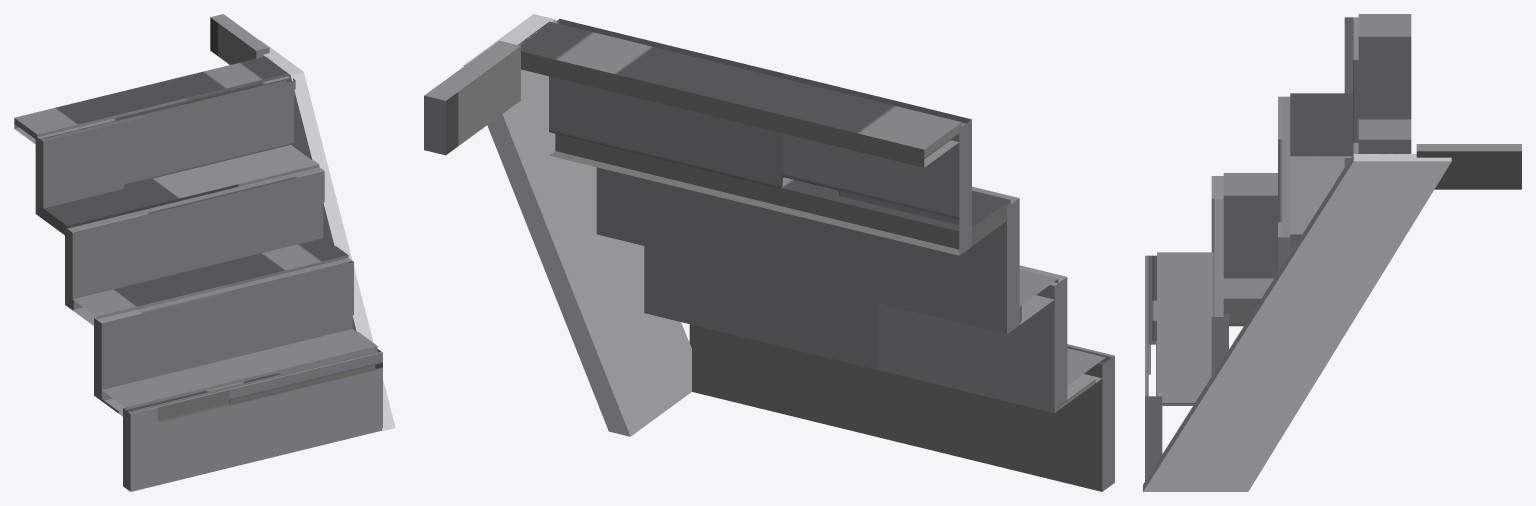
The picture shows the model from 3 angles, left to right: view 1: azimuth 30°, elevation 25°; view 2: azimuth 150°, elevation 25°; view 3: azimuth 270°, elevation 25°; orthographic projection. The views are drawn at different scales.
Bounding box in the file's own units: 0.9154 × 0.9752 × 0.9936.
